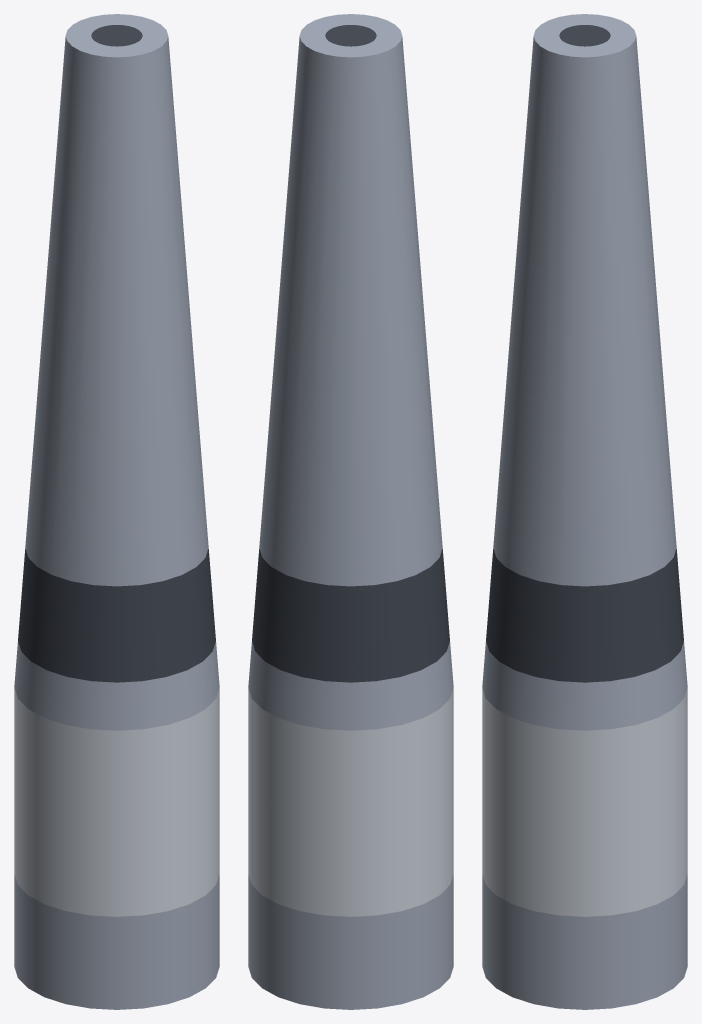
File: chimney_detailed.glb
3 views of the same model, side by side, from view 1: azimuth 30°, elevation 25°; view 2: azimuth 150°, elevation 25°; view 3: azimuth 270°, elevation 25° (orthographic).
Visible parts, largest first — view 1: chimney_detailed; view 2: chimney_detailed; view 3: chimney_detailed.
Boxes of the visible parts, <box> form: chimney_detailed: <box>14,14,219,1009</box>; chimney_detailed: <box>248,14,453,1009</box>; chimney_detailed: <box>482,14,687,1009</box>.
Size of the model in its own units: 0.4 by 2 by 0.4.
